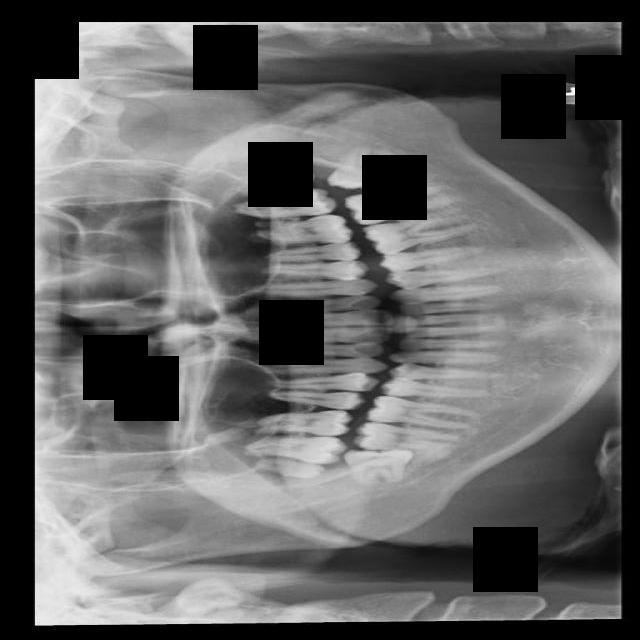3M ESPE Implant: (251, 456, 328, 479)
52: (409, 362, 423, 372)
73: (504, 40, 544, 55)
BioHorizons Implant: (232, 185, 339, 221)
BioLife Implant: (232, 154, 317, 211)
Biomet 3i Implant: (326, 138, 402, 196)
Blue Sky Bio Implant: (344, 183, 452, 227)
Caries: (242, 436, 346, 464)
Implant: (353, 421, 458, 449)
Keystone Dental Implant: (343, 447, 413, 486)
